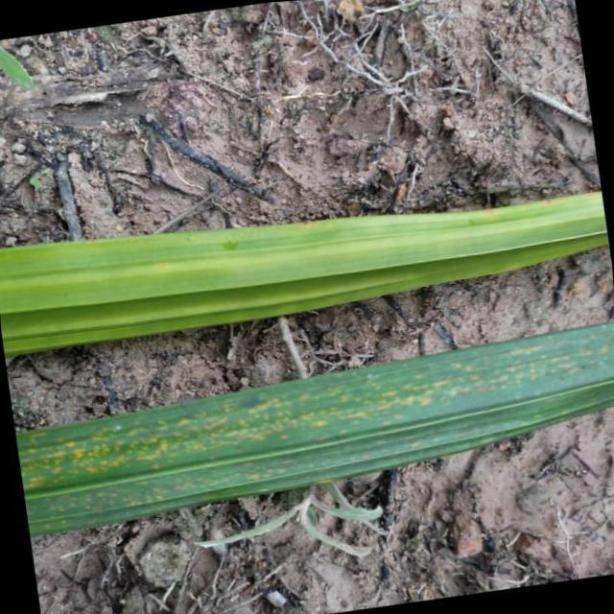nitrogen: (0, 193, 614, 360)
